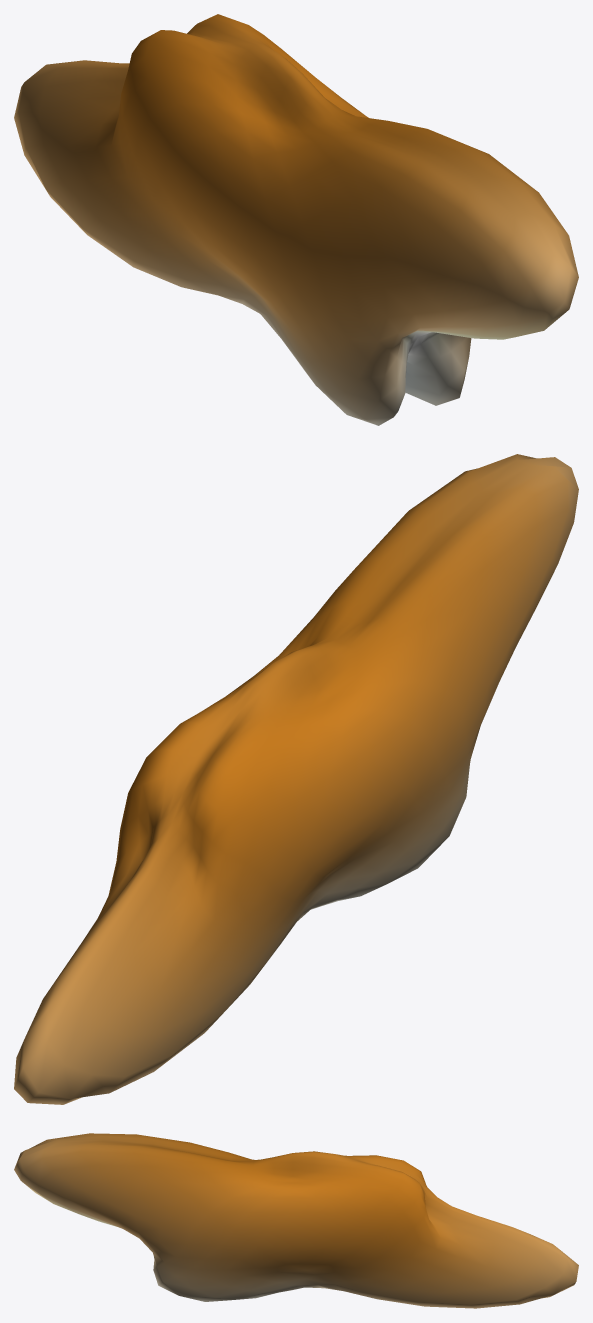
The model's file is Fox_064B_sh.glb.
3 views of the same model, one above another, from view 1: azimuth 30°, elevation 25°; view 2: azimuth 150°, elevation 25°; view 3: azimuth 270°, elevation 25° (orthographic). The views are drawn at different scales.
Size of the model in its own units: 0.3122 by 0.6075 by 1.91.
